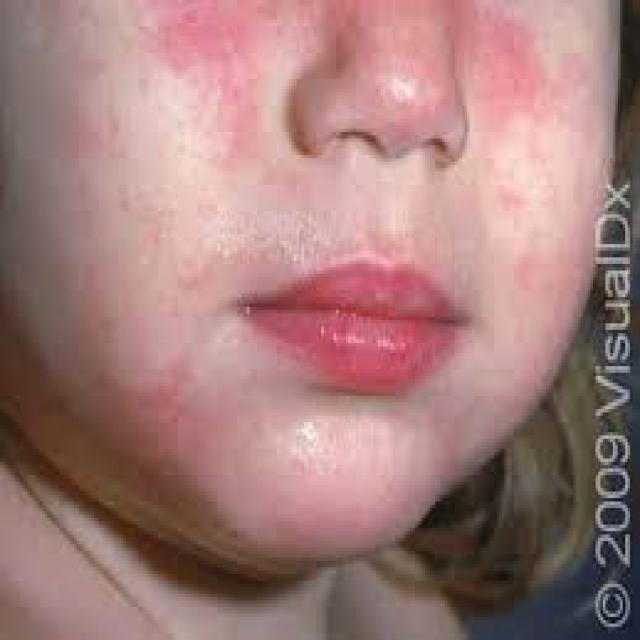Eczema: (145, 6, 267, 93), (474, 17, 547, 161)
